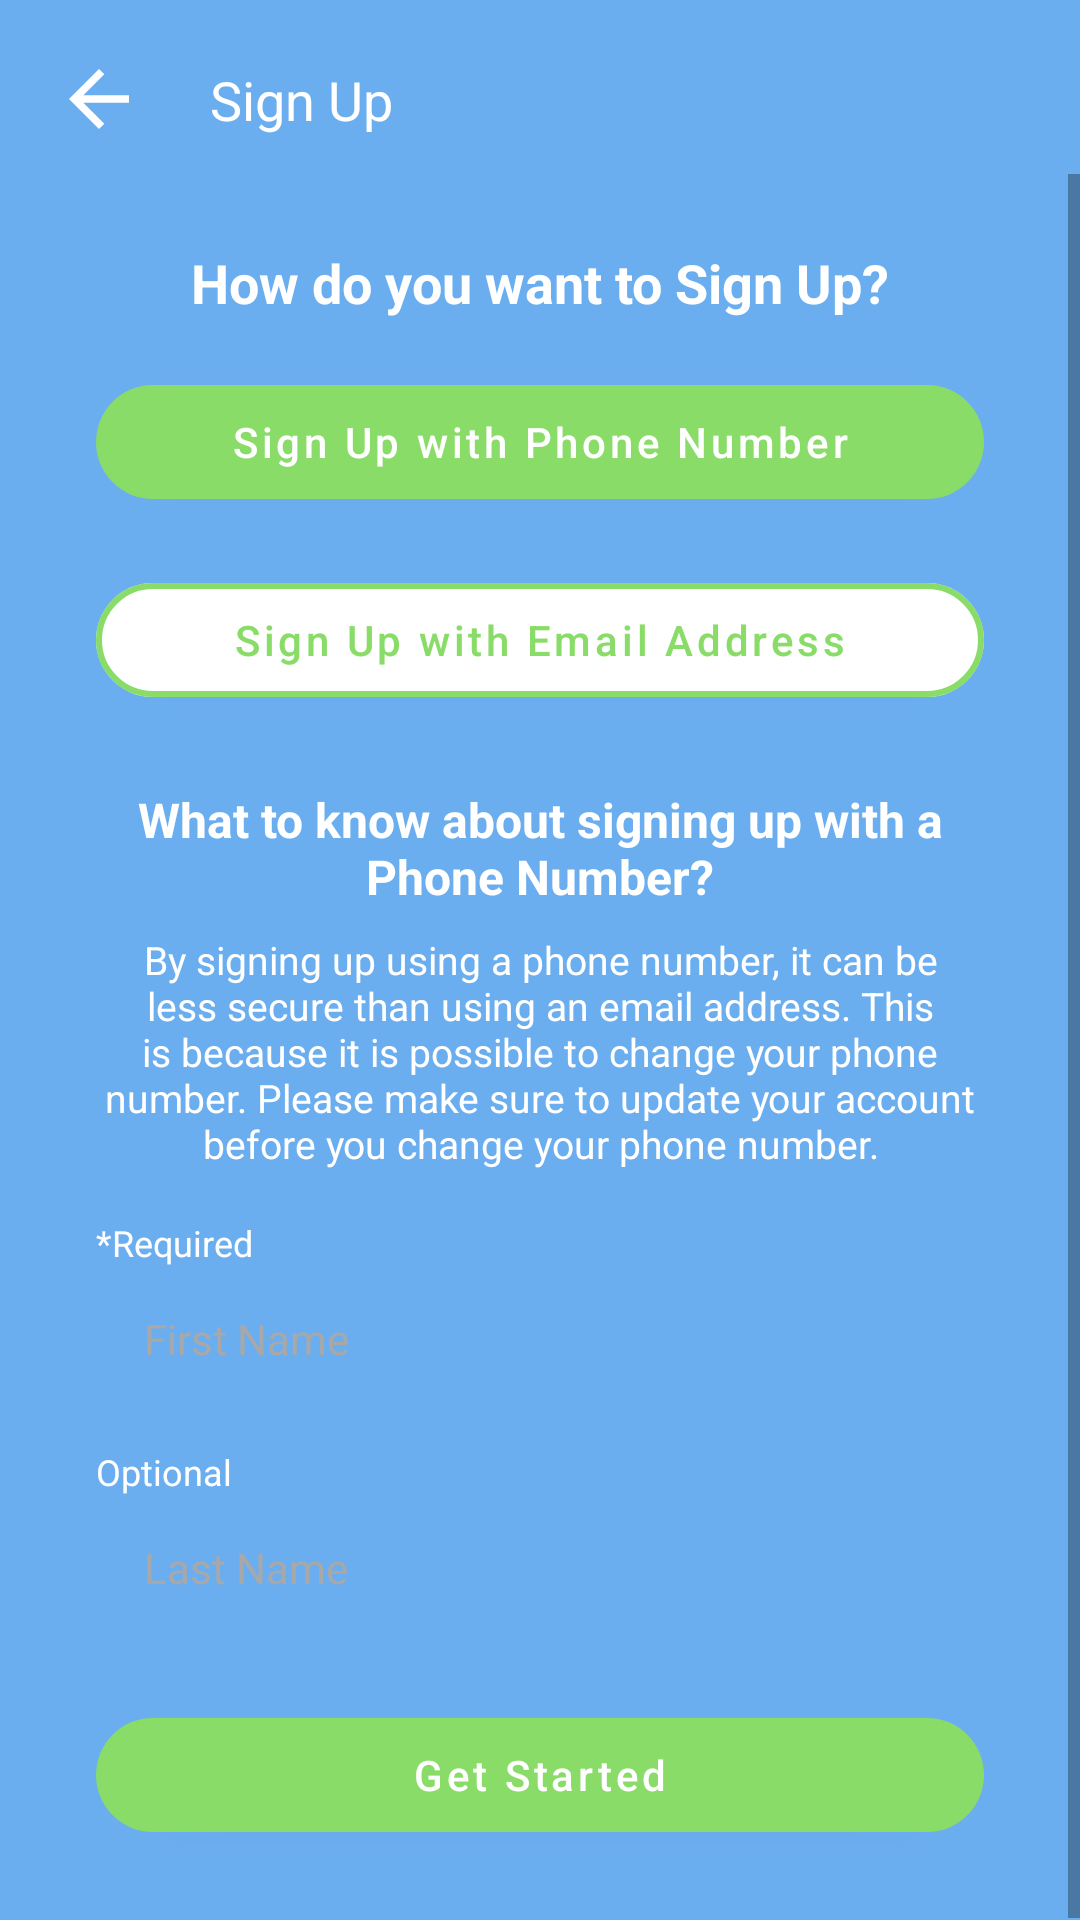

Point at icon controls on the screen. Image size 1080px x 1920px, points as point (x, y).
Back: point (99, 99)
